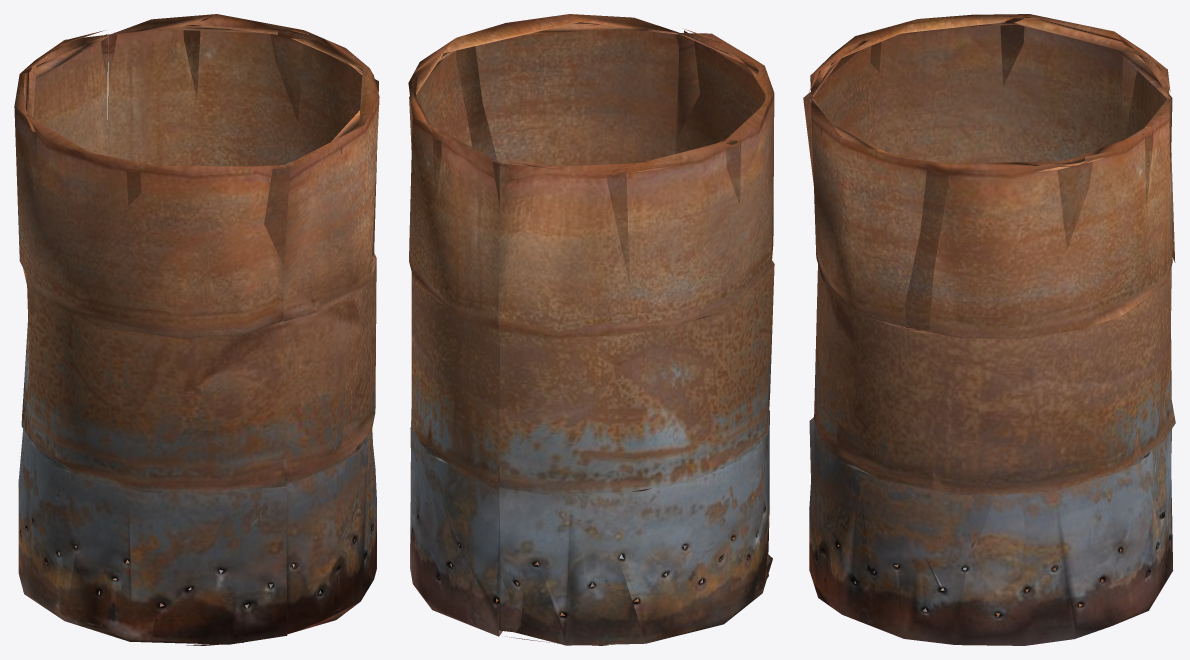
File: barrel_stove.glb
3 renders of one model, left to right at view 1: azimuth 30°, elevation 25°; view 2: azimuth 150°, elevation 25°; view 3: azimuth 270°, elevation 25°, orthographic.
Parts seen in each view (by area): view 1: barrel_stove; view 2: barrel_stove; view 3: barrel_stove.
Part boxes in pixels (<box>): barrel_stove: <box>14,14,379,645</box>; barrel_stove: <box>408,14,774,645</box>; barrel_stove: <box>803,14,1175,645</box>.
Size of the model in its own units: 0.593 by 0.8566 by 0.5976.
1 material, 1 textured.
